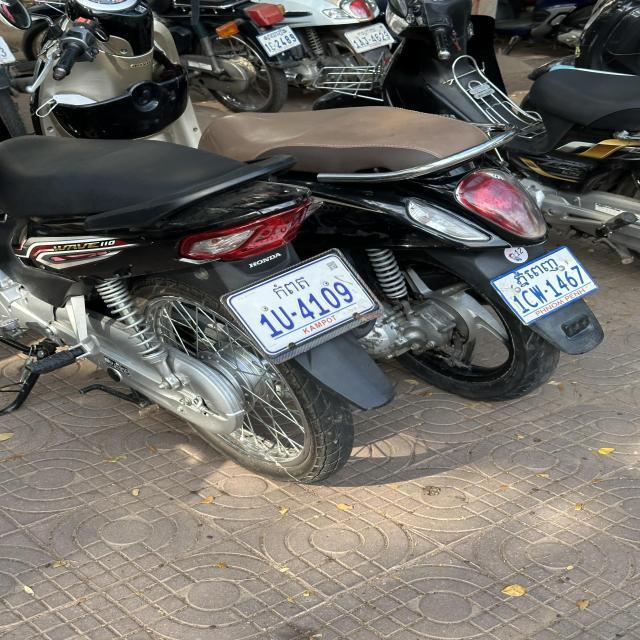Kampot: (271, 274, 311, 300)
